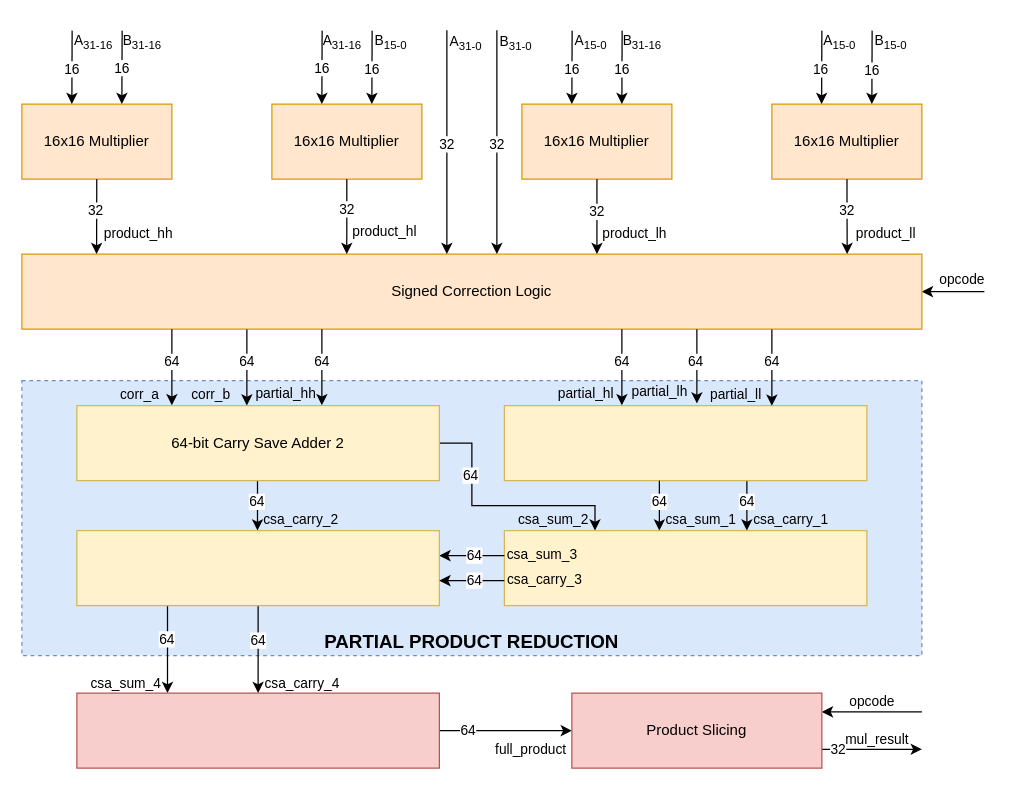
The diagram is 1016 pixels wide and 791 high, and some of its shapes have lost their labels. Each missing label, with the centre of its shape:
"64-bit Carry Propagate Adder" belongs at (257,730).
"64-bit Carry Save Adder 1" belongs at (685,442).
"64-bit Carry Save Adder 3" belongs at (685,567).
"64-bit Carry Save Adder 4" belongs at (257,567).
